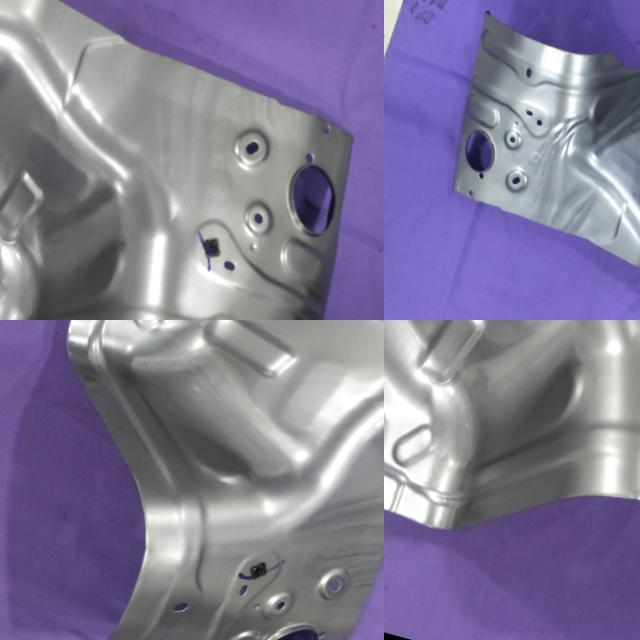Defect: (603, 17, 640, 83)
Healthy: (0, 0, 384, 320), (0, 320, 384, 640), (384, 320, 640, 622)
